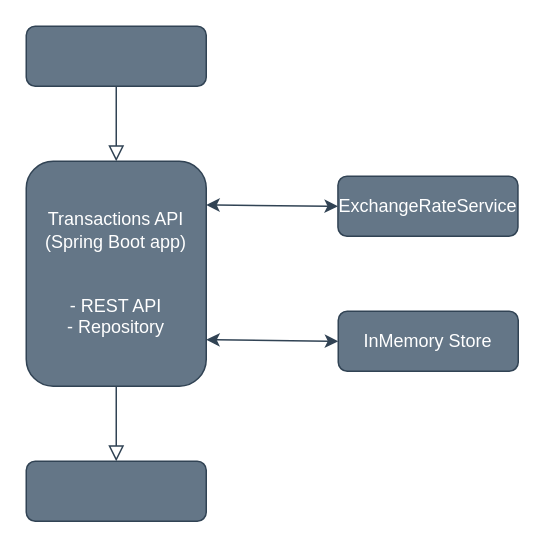
Image size: 545x548. Some labels were removed from this diagram. The centre of each missing label's shape, as x and y in pixels:
Customer (UI): (115,55)
Redpanda (K8s): (115,490)
